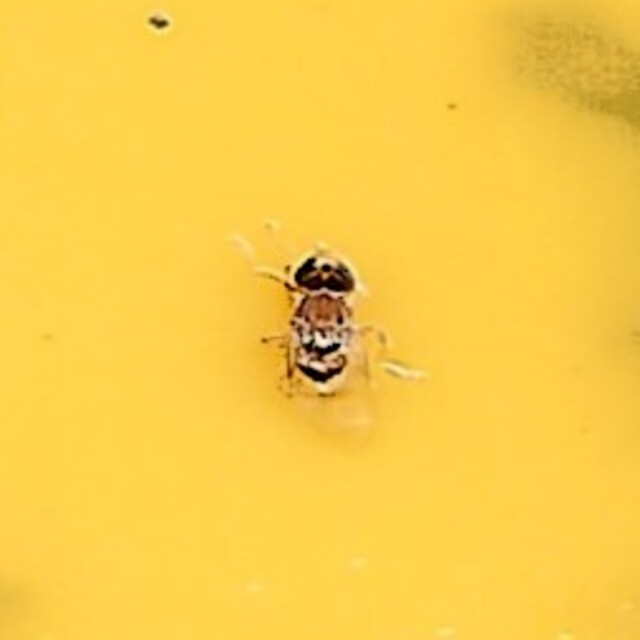Brachycera: (252, 223, 388, 417)
